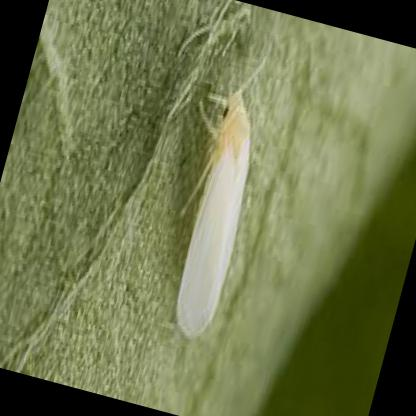whitefly: (177, 91, 252, 338)
